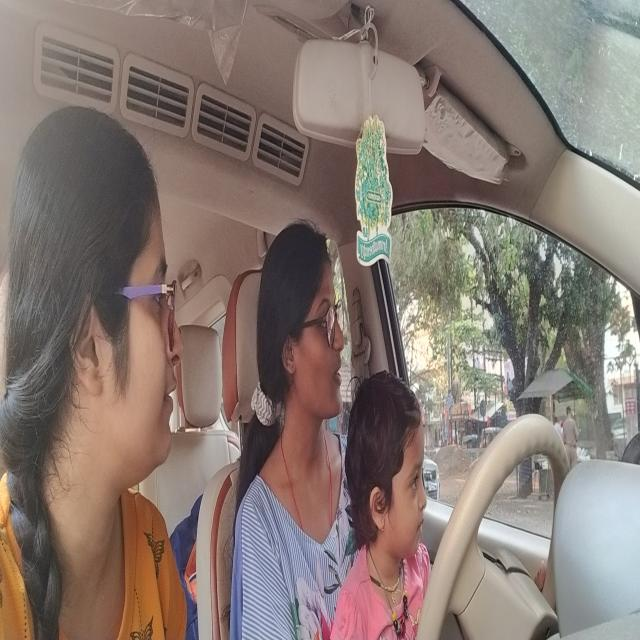child: (343, 372, 430, 566)
person: (7, 110, 187, 479), (258, 214, 348, 434)
